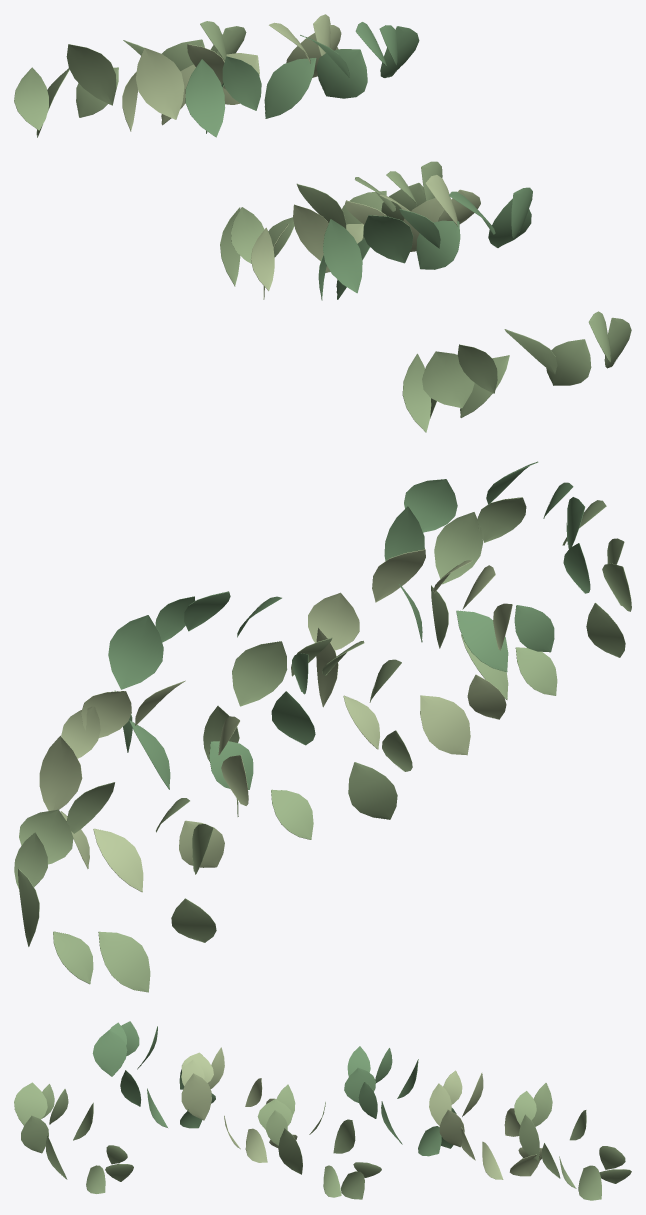
The model's file is window-canopy-v9.glb.
The picture shows the model from 3 angles, top to bottom: view 1: azimuth 30°, elevation 25°; view 2: azimuth 150°, elevation 25°; view 3: azimuth 270°, elevation 25°; orthographic projection. The views are drawn at different scales.
Visible parts, largest first — view 1: window-canopy-v9; view 2: window-canopy-v9; view 3: window-canopy-v9.
Boxes of the visible parts, <box> form: window-canopy-v9: <box>14,14,631,432</box>; window-canopy-v9: <box>14,461,631,992</box>; window-canopy-v9: <box>14,1021,631,1200</box>.
Bounding box in the file's own units: 1.24 × 0.9787 × 3.75.
